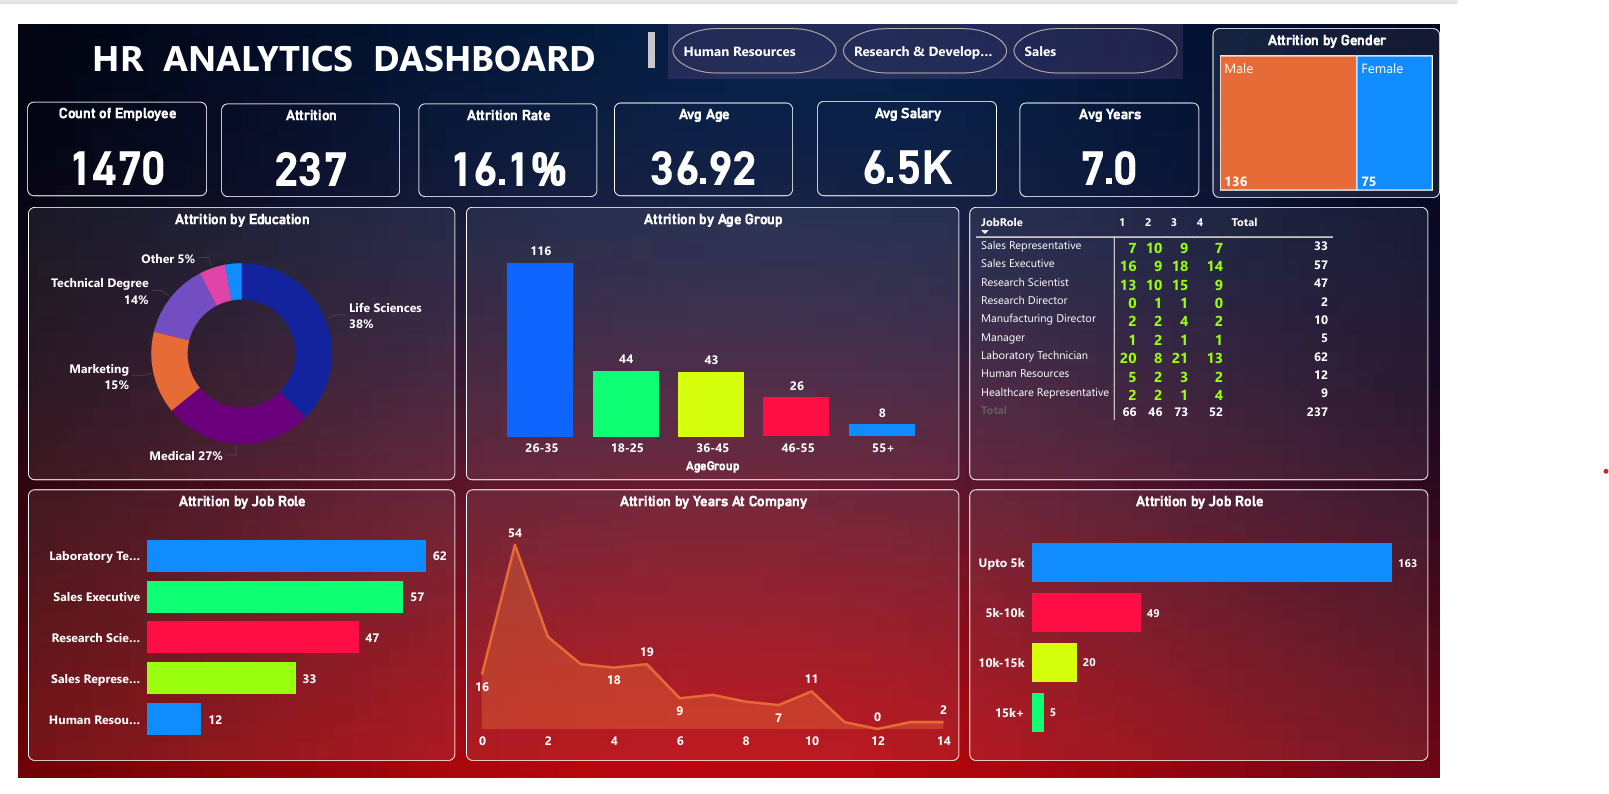

This screenshot's page, from the dashboard's own definition file:
{"tool":"powerbi","page":{"name":"Page 1","canvas":[1700,902],"ordinal":0},"visuals":[{"type":"cardVisual","title":"Count of Employee","fields":{"Data":["CountNonNull(HR_Analytics.EmployeeCount)"]},"box":[10.3,93,214.7,112.9],"z":0},{"type":"cardVisual","title":"Attrition","fields":{"Data":["Sum(HR_Analytics.AttritionCount)"]},"box":[241.8,95.2,214.6,111.8],"z":1000},{"type":"cardVisual","title":"Attrition Rate","fields":{"Data":["HR_Analytics.Attrition Rate %"]},"box":[477.6,95.2,214.6,111.8],"z":2000},{"type":"cardVisual","title":"Avg Age","fields":{"Data":["Avg(HR_Analytics.Age)"]},"box":[711.9,93.7,214.6,111.8],"z":3000},{"type":"cardVisual","title":"Avg Salary","fields":{"Data":["Avg(HR_Analytics.MonthlyIncome)"]},"box":[955.2,92.2,214.6,113.4],"z":4000},{"type":"cardVisual","title":"Avg Years","fields":{"Data":["Avg(HR_Analytics.YearsAtCompany)"]},"box":[1197,93.7,214.6,113.4],"z":5000},{"type":"donutChart","title":"Attrition  by Education","fields":{"Category":["HR_Analytics.EducationField"],"Y":["Sum(HR_Analytics.AttritionCount)"]},"box":[11,218.6,511.2,327.2],"z":6000},{"type":"clusteredColumnChart","title":"Attrition  by Age Group","fields":{"Y":["Sum(HR_Analytics.AttritionCount)"],"Category":["HR_Analytics.AgeGroup"]},"box":[534.8,218.6,589.8,327.2],"z":7000},{"type":"pivotTable","fields":{"Rows":["HR_Analytics.JobRole"],"Columns":["HR_Analytics.JobSatisfaction"],"Values":["Sum(HR_Analytics.AttritionCount)"]},"box":[1137.2,218.6,548.9,327.2],"z":8000},{"type":"barChart","title":"Attrition  by Job Role","fields":{"Y":["Sum(HR_Analytics.AttritionCount)"],"Category":["HR_Analytics.JobRole"]},"box":[11,556.8,511.2,325.6],"z":8001},{"type":"areaChart","title":"Attrition  by Years At Company","fields":{"Category":["HR_Analytics.YearsAtCompany"],"Y":["Sum(HR_Analytics.AttritionCount)"]},"box":[534.8,556.8,589.8,325.6],"z":8002},{"type":"treemap","title":"Attrition  by Gender","fields":{"Values":["Sum(HR_Analytics.AttritionCount)"],"Group":["HR_Analytics.Gender"]},"box":[1428.2,4.7,272.1,202.9],"z":8003},{"type":"advancedSlicerVisual","fields":{"Values":["HR_Analytics.Department"]},"box":[776.9,0,615.1,65],"z":8004},{"type":"barChart","title":"Attrition  by Job Role","fields":{"Y":["Sum(HR_Analytics.AttritionCount)"],"Category":["HR_Analytics.SalarySlab"]},"box":[1137.2,556.8,548.9,325.6],"z":8005},{"type":"textbox","box":[31.5,4.7,734.6,59.8],"z":8006}]}

Visuals, with their boxes in screenshot pixels (x1, y1, x2, y2):
"Count of Employee" cardVisual: 21 94 200 189
"Attrition" cardVisual: 215 96 394 190
"Attrition Rate" cardVisual: 411 96 591 190
"Avg Age" cardVisual: 607 95 786 188
"Avg Salary" cardVisual: 810 94 990 188
"Avg Years" cardVisual: 1012 95 1191 190
"Attrition  by Education" donutChart: 22 199 449 473
"Attrition  by Age Group" clusteredColumnChart: 459 199 952 473
pivotTable - HR_Analytics.JobRole x HR_Analytics.JobSatisfaction: 962 199 1421 473
"Attrition  by Job Role" barChart: 22 482 449 754
"Attrition  by Years At Company" areaChart: 459 482 952 754
"Attrition  by Gender" treemap: 1205 21 1433 190
advancedSlicerVisual - HR_Analytics.Department: 661 17 1175 71
"Attrition  by Job Role" barChart: 962 482 1421 754
textbox: 39 21 652 71
